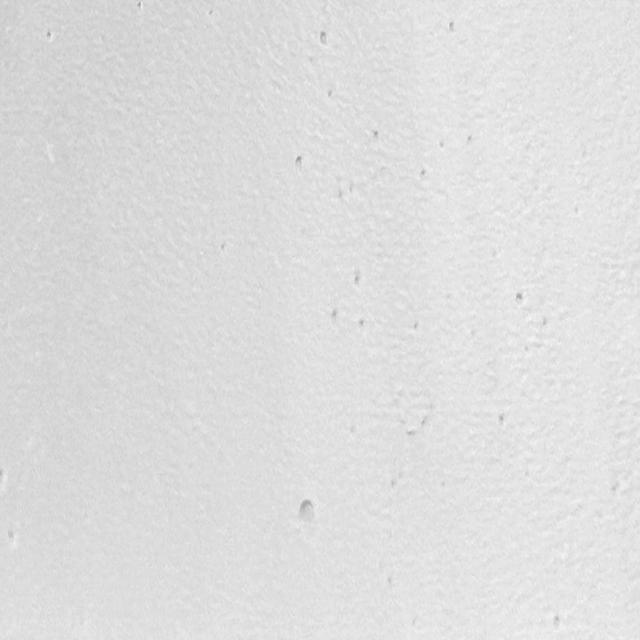pin holes: (294, 496, 320, 526), (350, 270, 369, 292), (293, 154, 310, 174), (512, 289, 528, 309), (0, 466, 12, 491), (316, 30, 332, 48), (328, 306, 344, 324), (498, 409, 513, 428), (551, 614, 565, 632), (417, 165, 432, 181), (410, 319, 424, 336), (358, 315, 372, 331), (7, 530, 20, 547), (446, 18, 459, 35), (371, 128, 384, 144), (219, 237, 228, 260), (44, 28, 57, 43), (406, 426, 420, 439), (326, 83, 335, 102), (133, 0, 146, 13), (440, 135, 448, 153), (468, 132, 476, 149)
